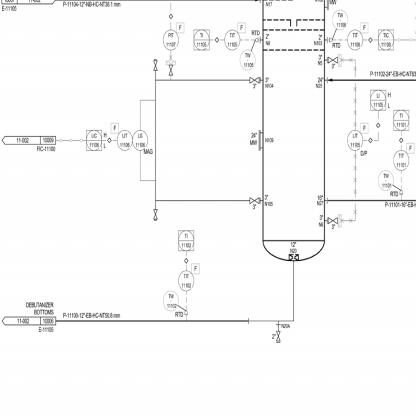LMI: (177, 269, 194, 291), (162, 30, 179, 51), (117, 130, 133, 152), (224, 29, 240, 51), (393, 150, 409, 171), (347, 30, 363, 51), (132, 130, 148, 150), (347, 130, 363, 150)
TAG: (177, 224, 195, 252), (193, 28, 210, 54), (86, 128, 102, 154), (369, 87, 387, 110), (392, 108, 410, 131), (378, 28, 394, 50)
